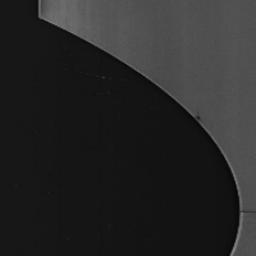Crescent gap: (38, 17, 240, 256)
